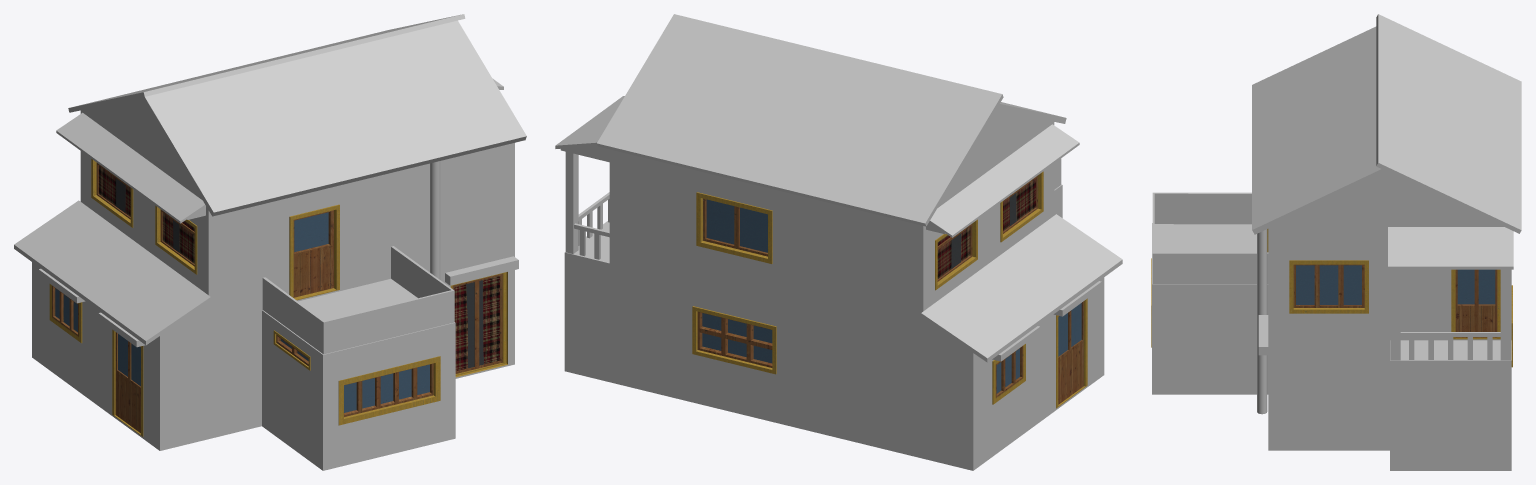
Rendered from House4-2.fbx.
The picture shows the model from 3 angles, left to right: view 1: azimuth 30°, elevation 25°; view 2: azimuth 150°, elevation 25°; view 3: azimuth 270°, elevation 25°; orthographic projection. The views are drawn at different scales.
Parts seen in each view (by area): view 1: House4-2; view 2: House4-2; view 3: House4-2.
Part boxes in pixels (bbox=[...]): House4-2: bbox=[14, 14, 526, 470]; House4-2: bbox=[555, 14, 1122, 470]; House4-2: bbox=[1151, 14, 1521, 470].
Size of the model in its own units: 763 by 528 by 609.
